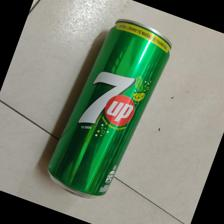7up: (46, 17, 175, 201)
